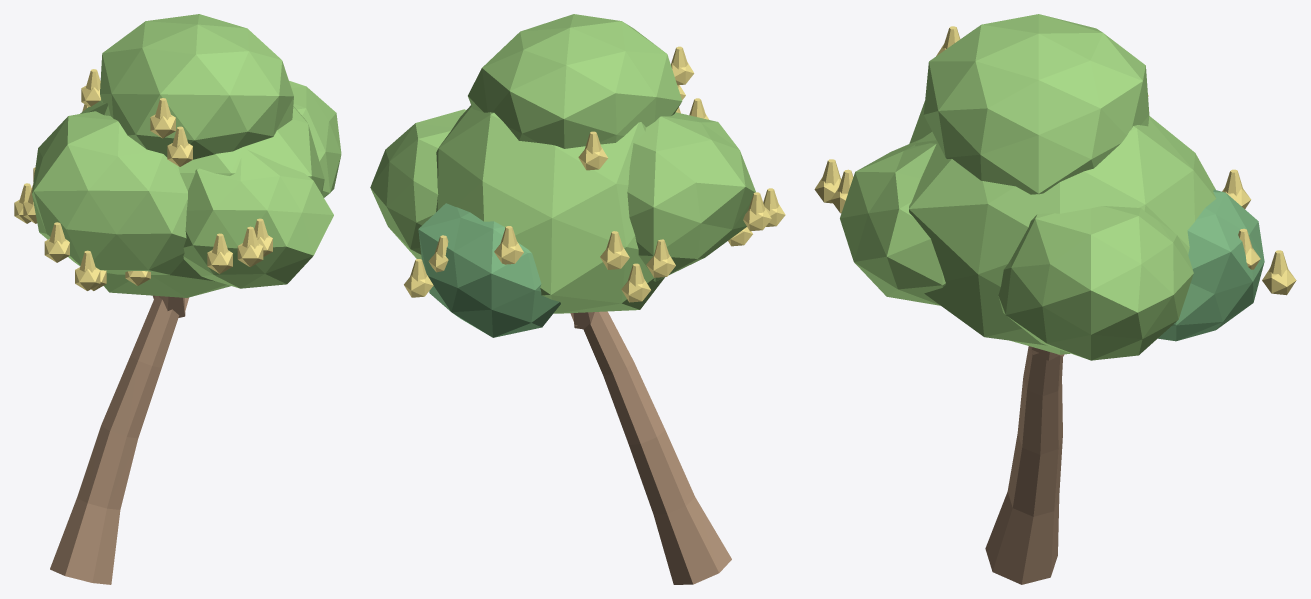
Rendered from pereira_3.fbx.
The picture shows the model from 3 angles, left to right: view 1: azimuth 30°, elevation 25°; view 2: azimuth 150°, elevation 25°; view 3: azimuth 270°, elevation 25°; orthographic projection. The views are drawn at different scales.
Parts seen in each view (by area): view 1: pereira_3~Copa 5@leaf, pereira_3~Copa 3@leaf, pereira_3~Copa 4@leaf, pereira_3~Tronco@bark, pereira_3~Copa 0@leaf, pereira_3~Copa 1@leaf, pereira_3~Fruta 9@pear, pereira_3~Fruta 1@pear, pereira_3~Fruta 2@pear, pereira_3~Fruta 7@pear, pereira_3~Fruta 10@pear, pereira_3~Fruta 5@pear (+1 smaller); view 2: pereira_3~Copa 0@leaf, pereira_3~Copa 5@leaf, pereira_3~Copa 3@leaf, pereira_3~Tronco@bark, pereira_3~Copa 2@leafdark, pereira_3~Copa 1@leaf, pereira_3~Fruta 14@pear, pereira_3~Fruta 4@pear, pereira_3~Fruta 12@pear, pereira_3~Fruta 17@pear, pereira_3~Fruta 0@pear, pereira_3~Fruta 1@pear (+2 smaller); view 3: pereira_3~Copa 5@leaf, pereira_3~Copa 0@leaf, pereira_3~Copa 1@leaf, pereira_3~Tronco@bark, pereira_3~Copa 4@leaf, pereira_3~Copa 2@leafdark, pereira_3~Fruta 17@pear, pereira_3~Fruta 9@pear.
Boxes of the visible parts, x1,y1,x2,y2 form: pereira_3~Copa 5@leaf: (100,14,293,159); pereira_3~Copa 3@leaf: (32,111,187,274); pereira_3~Copa 4@leaf: (183,149,333,288); pereira_3~Tronco@bark: (50,296,184,584); pereira_3~Copa 0@leaf: (80,100,324,297); pereira_3~Copa 1@leaf: (289,81,341,197); pereira_3~Fruta 9@pear: (237,226,263,267); pereira_3~Fruta 1@pear: (44,222,69,262); pereira_3~Fruta 2@pear: (75,250,100,290); pereira_3~Fruta 7@pear: (167,126,192,166); pereira_3~Fruta 10@pear: (207,233,232,273); pereira_3~Fruta 5@pear: (150,98,175,138); pereira_3~Copa 0@leaf: (436,105,664,313); pereira_3~Copa 5@leaf: (468,14,682,148); pereira_3~Copa 3@leaf: (627,112,755,281); pereira_3~Tronco@bark: (583,311,731,584); pereira_3~Copa 2@leafdark: (418,203,560,337); pereira_3~Copa 1@leaf: (370,109,466,259); pereira_3~Fruta 14@pear: (621,263,650,302); pereira_3~Fruta 4@pear: (578,131,607,170); pereira_3~Fruta 12@pear: (600,231,629,269); pereira_3~Fruta 17@pear: (404,259,433,297); pereira_3~Fruta 0@pear: (494,226,523,264); pereira_3~Fruta 1@pear: (743,192,771,231); pereira_3~Copa 5@leaf: (923,14,1149,194); pereira_3~Copa 0@leaf: (909,116,1216,354); pereira_3~Copa 1@leaf: (998,206,1193,360); pereira_3~Tronco@bark: (985,346,1062,584); pereira_3~Copa 4@leaf: (840,139,945,305); pereira_3~Copa 2@leafdark: (1158,189,1264,341); pereira_3~Fruta 17@pear: (1262,250,1296,295); pereira_3~Fruta 9@pear: (814,159,841,203).
Size of the model in its own units: 2.97 by 4.45 by 3.21.
